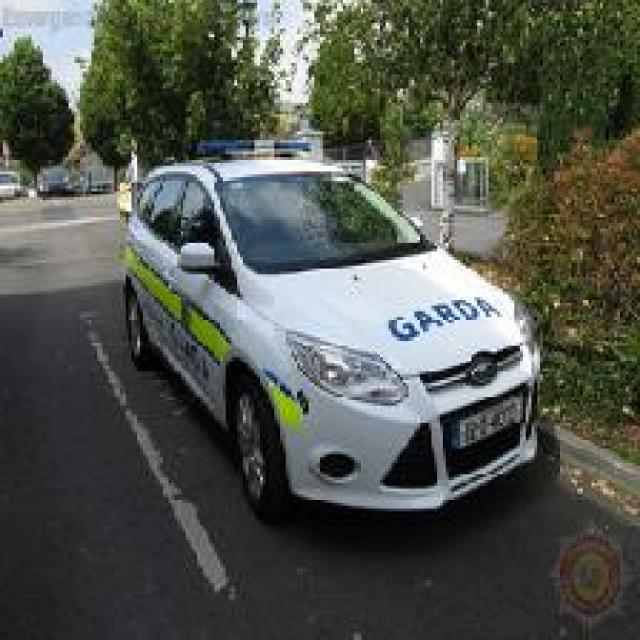Police-car: (114, 137, 543, 520)
